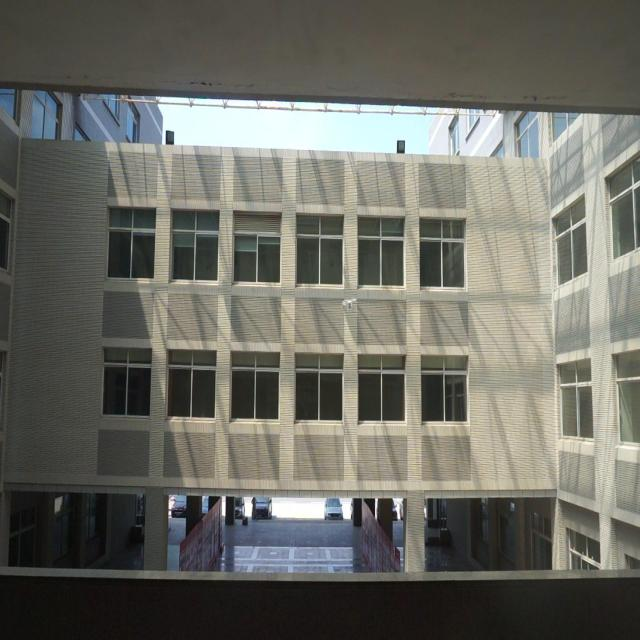drone: (341, 294, 356, 316)
